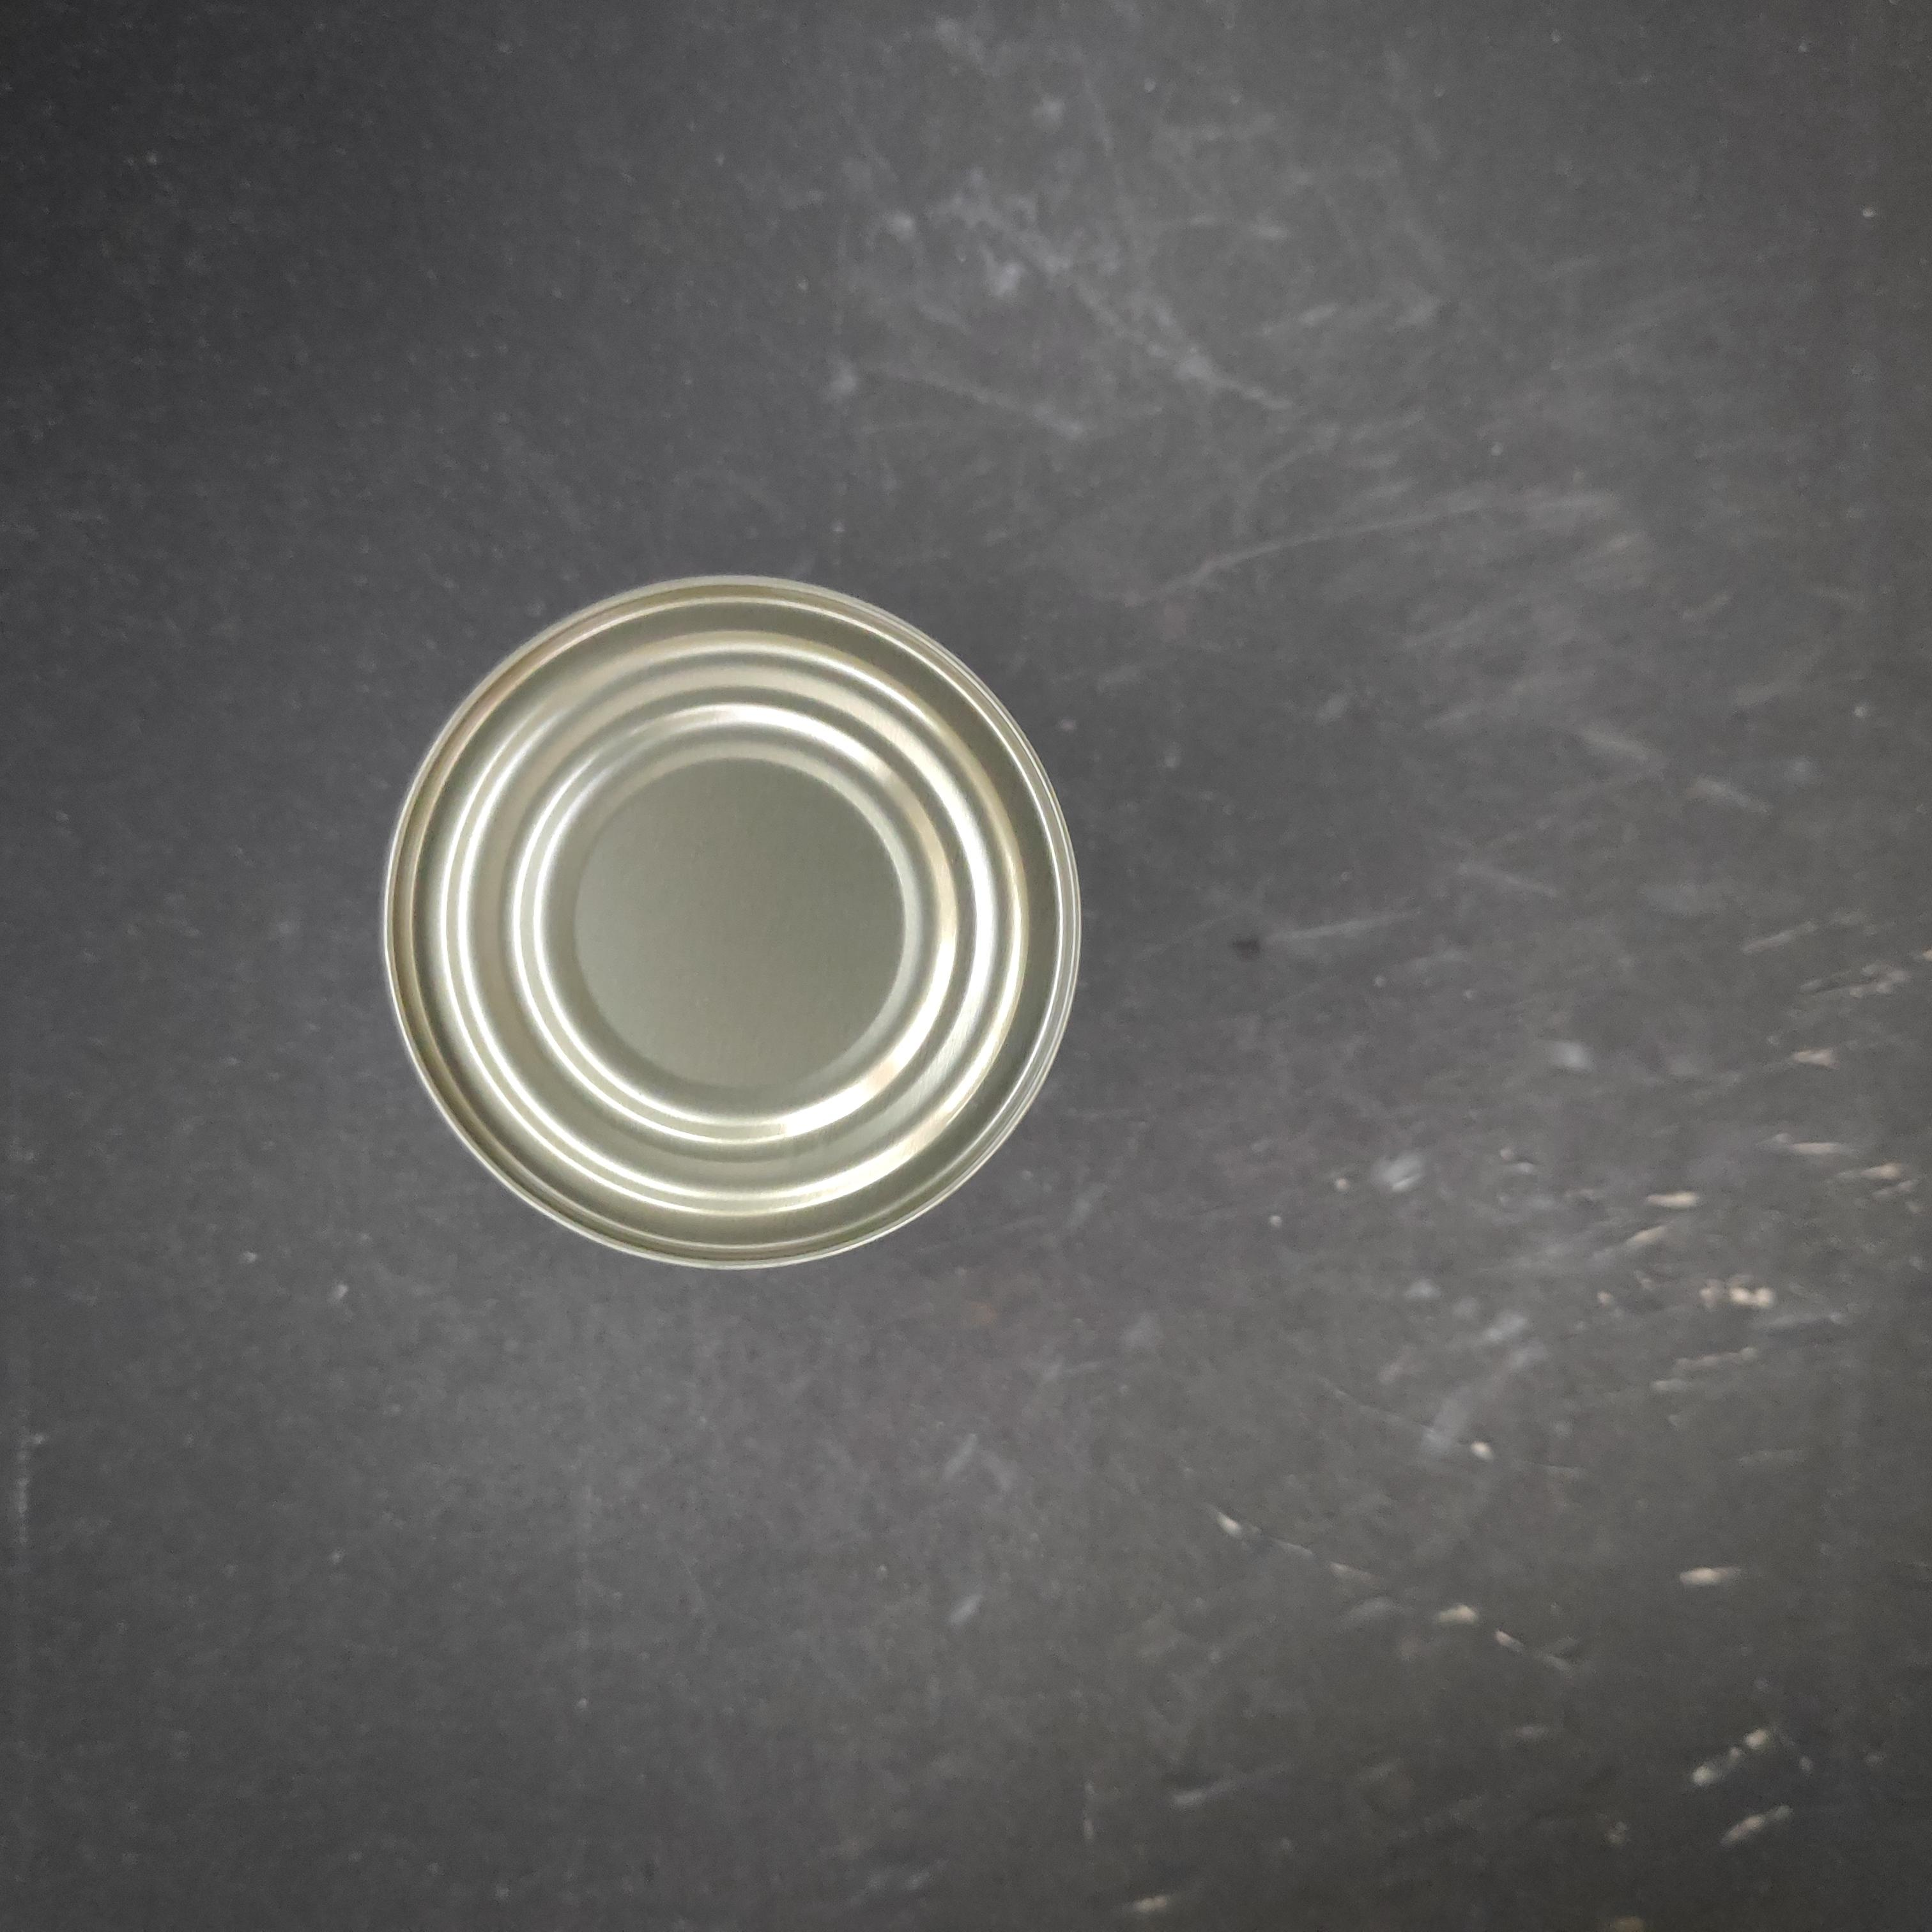No defect: (660, 379, 1362, 1086)
